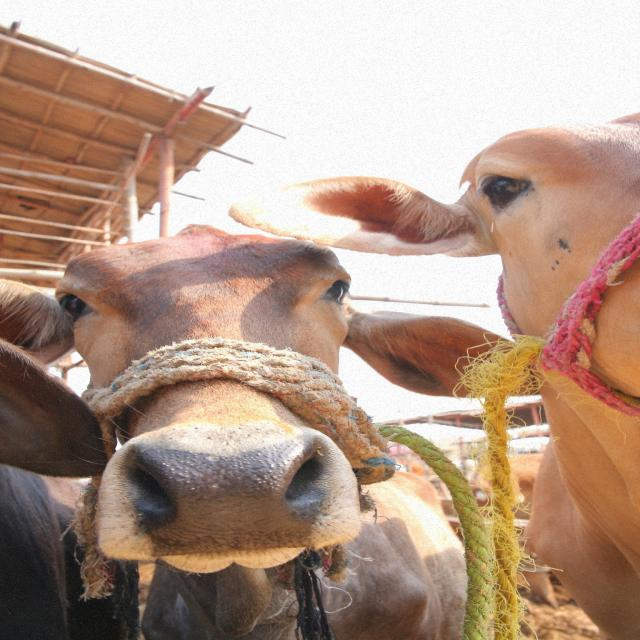muzzles: (107, 432, 343, 554)
